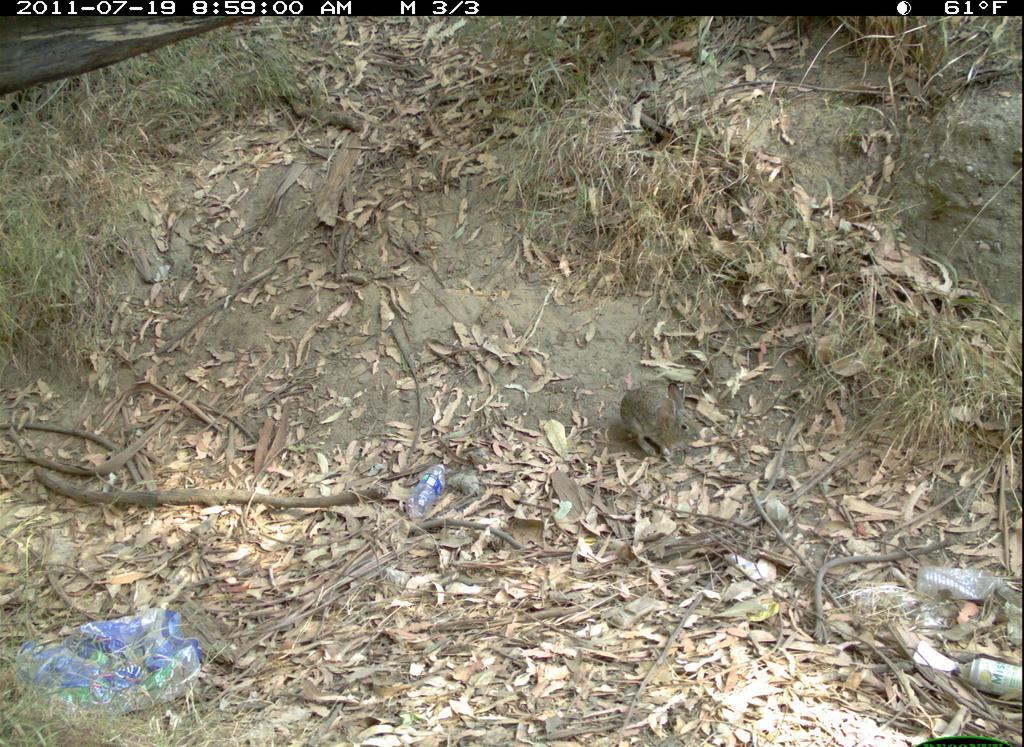rabbit: (610, 377, 707, 460)
